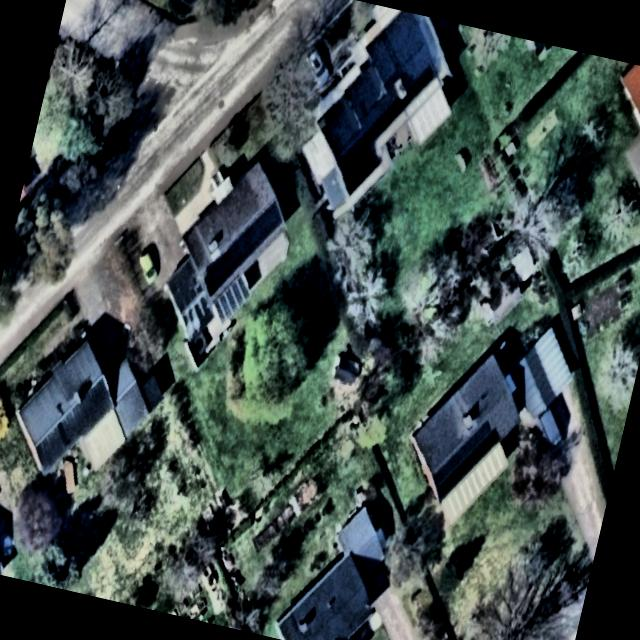roof_pv: (249, 199, 286, 259), (224, 216, 256, 283), (200, 241, 232, 296)
